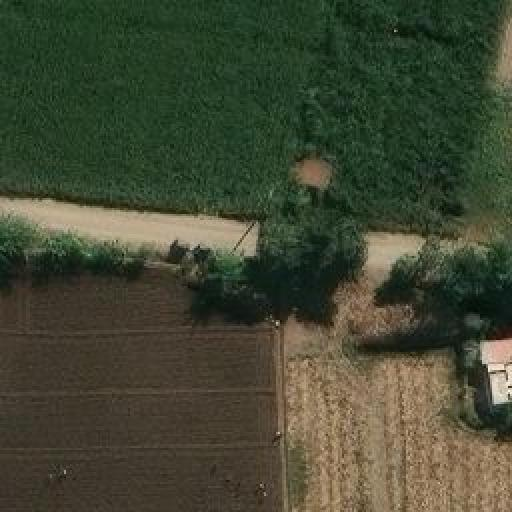manzanas: (473, 329, 508, 421)
